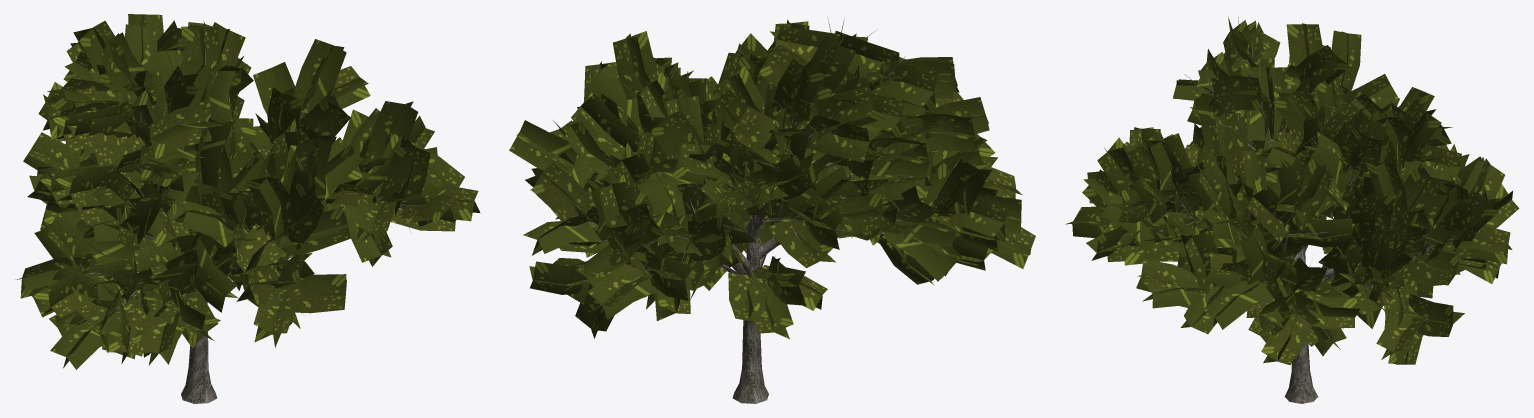
File: SM_Tree_04.FBX
The picture shows the model from 3 angles, left to right: view 1: azimuth 30°, elevation 25°; view 2: azimuth 150°, elevation 25°; view 3: azimuth 270°, elevation 25°; orthographic projection. The views are drawn at different scales.
Parts seen in each view (by area): view 1: SM_Tree_04_LOD0; view 2: SM_Tree_04_LOD0; view 3: SM_Tree_04_LOD0.
Part boxes in pixels (bbox=[...]): SM_Tree_04_LOD0: bbox=[15, 14, 480, 403]; SM_Tree_04_LOD0: bbox=[509, 18, 1035, 403]; SM_Tree_04_LOD0: bbox=[1065, 16, 1519, 403].
Size of what is drawn, in the model's own units: 5061 by 4957 by 4093.
2 materials, 2 textured.
